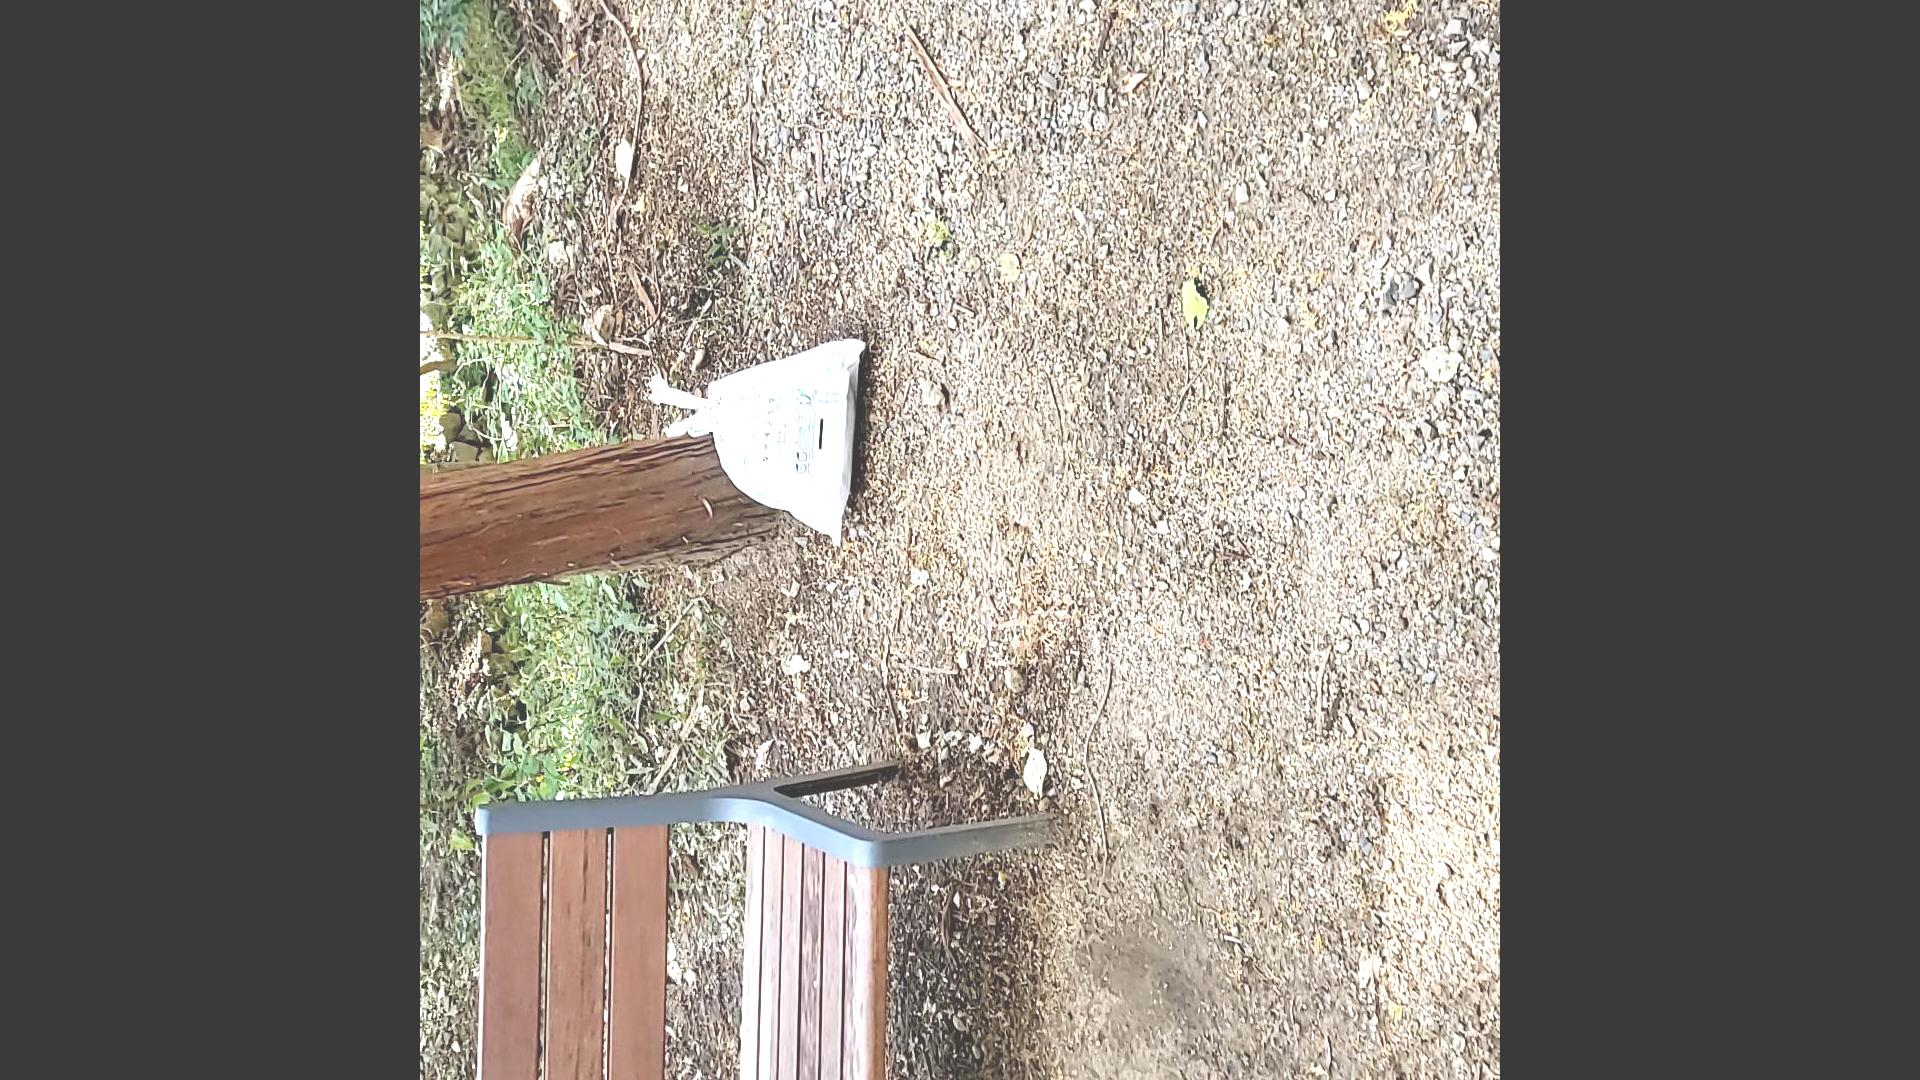white_bag: (642, 313, 885, 558)
